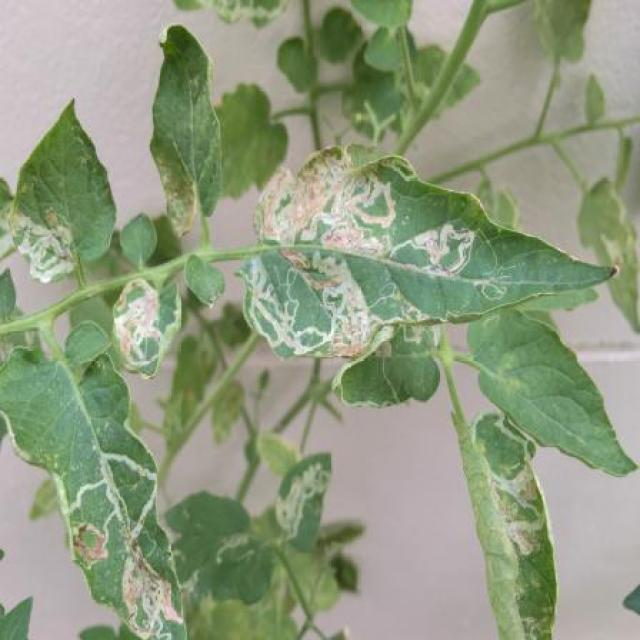Leaf Miner: (237, 140, 623, 360), (0, 343, 191, 639), (466, 408, 560, 639), (9, 96, 120, 286), (113, 274, 181, 380)
